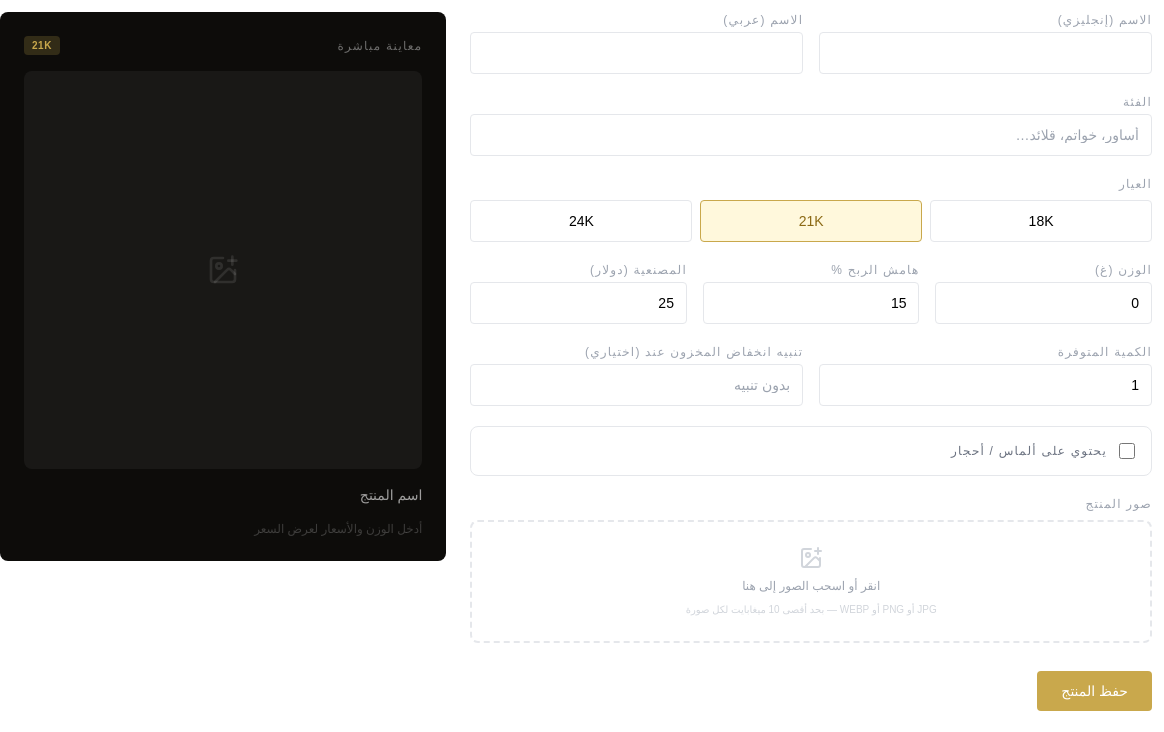
Test: ProductForm labels and i18n (NEX-64) › renders the stone section in Arabic with no English left behind
Click the checkbox labelled "يحتوي على ألماس / أحجار".
click(1127, 451)  # box x1=1119 y1=443 x2=1135 y2=459
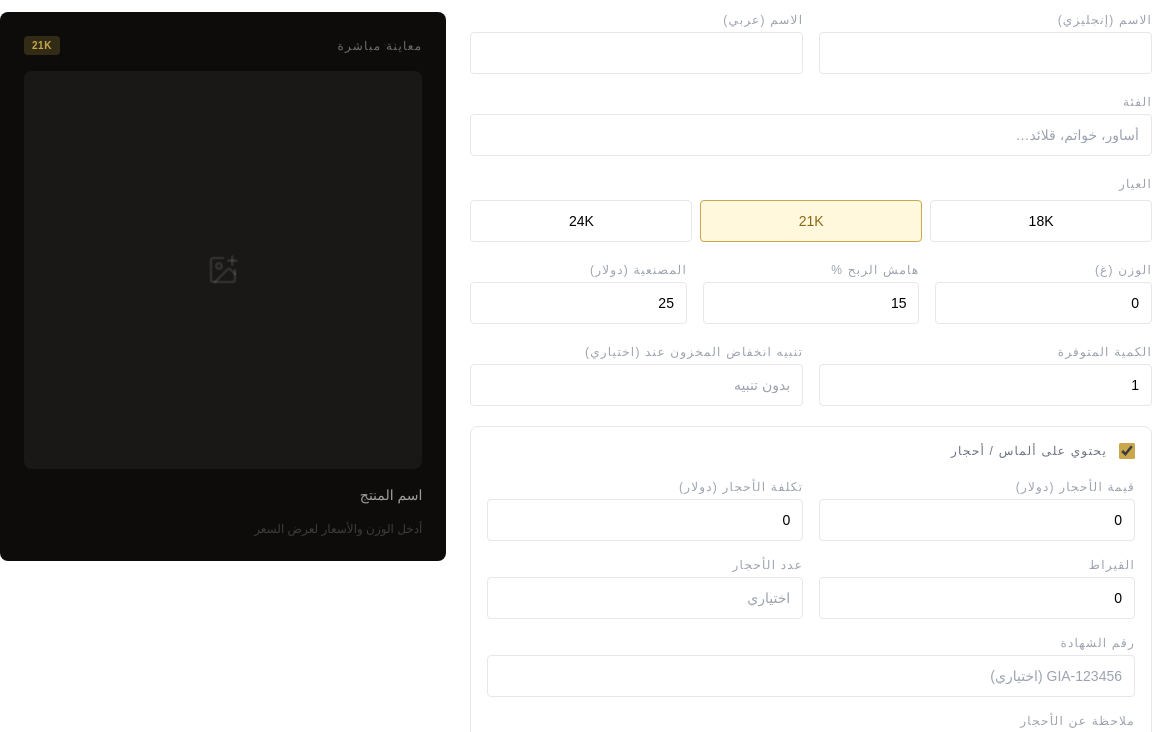
Now the number field labelled "القيراط" is shown, box x1=819 y1=577 x2=1135 y2=619
Now the number field labelled "عدد الأحجار" is shown, box x1=487 y1=577 x2=803 y2=619
